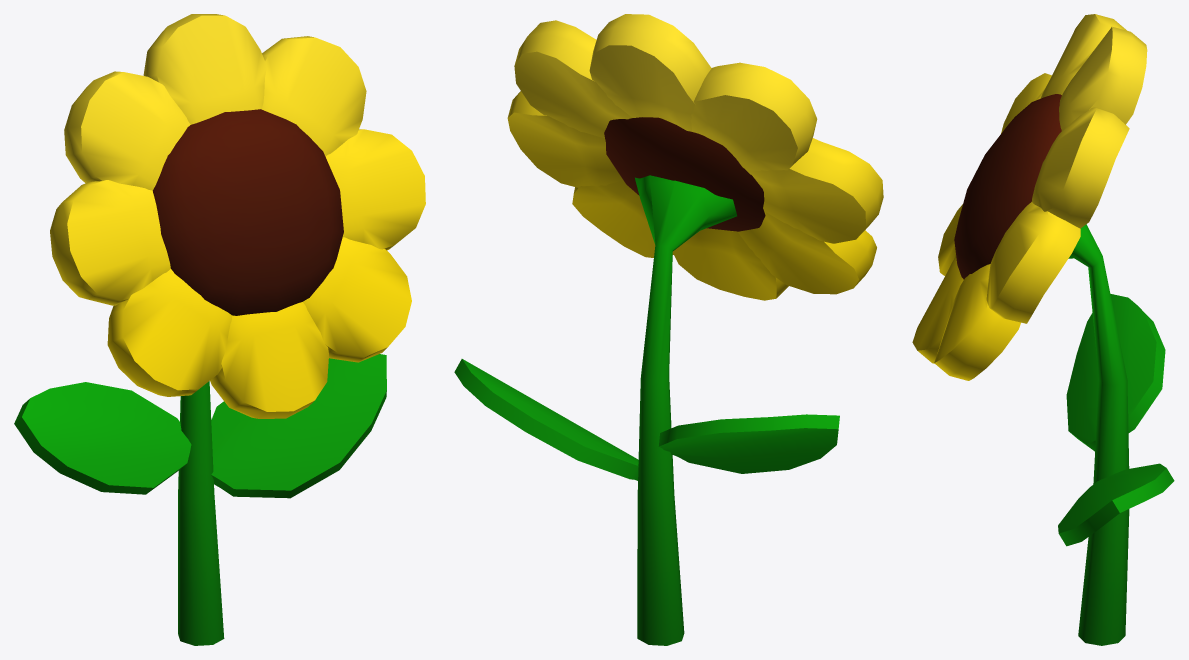
Rendered from Farm_Crop_Sunflower_01.glb.
3 renders of one model, left to right at view 1: azimuth 30°, elevation 25°; view 2: azimuth 150°, elevation 25°; view 3: azimuth 270°, elevation 25°, orthographic. The views are drawn at different scales.
Visible parts, largest first — view 1: Farm_Crop_Sunflower_01; view 2: Farm_Crop_Sunflower_01; view 3: Farm_Crop_Sunflower_01.
Boxes of the visible parts, left/top/right/bottom form: Farm_Crop_Sunflower_01: left=14, top=14, right=425, bottom=645; Farm_Crop_Sunflower_01: left=454, top=14, right=883, bottom=645; Farm_Crop_Sunflower_01: left=912, top=14, right=1174, bottom=645.
Size of the model in its own units: 0.6961 by 1.09 by 0.4269.
1 material, 1 textured.
